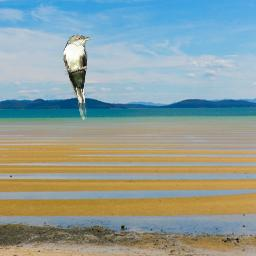Cuckoo: (63, 34, 91, 122)
